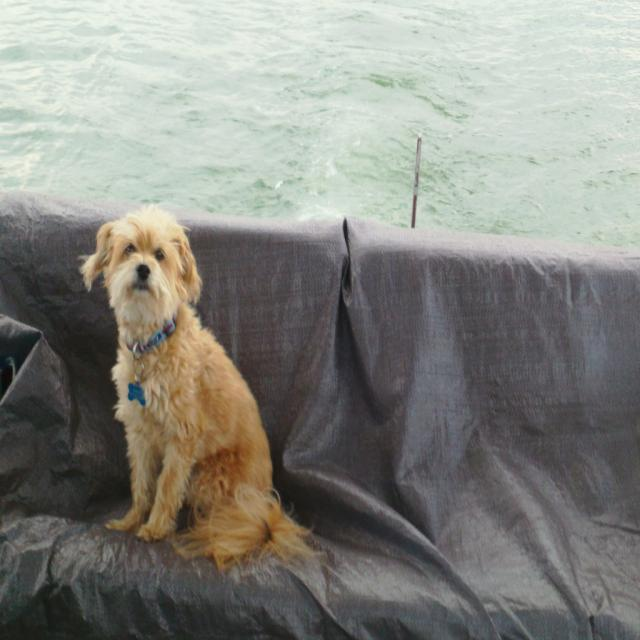Dog: (77, 206, 323, 570)
